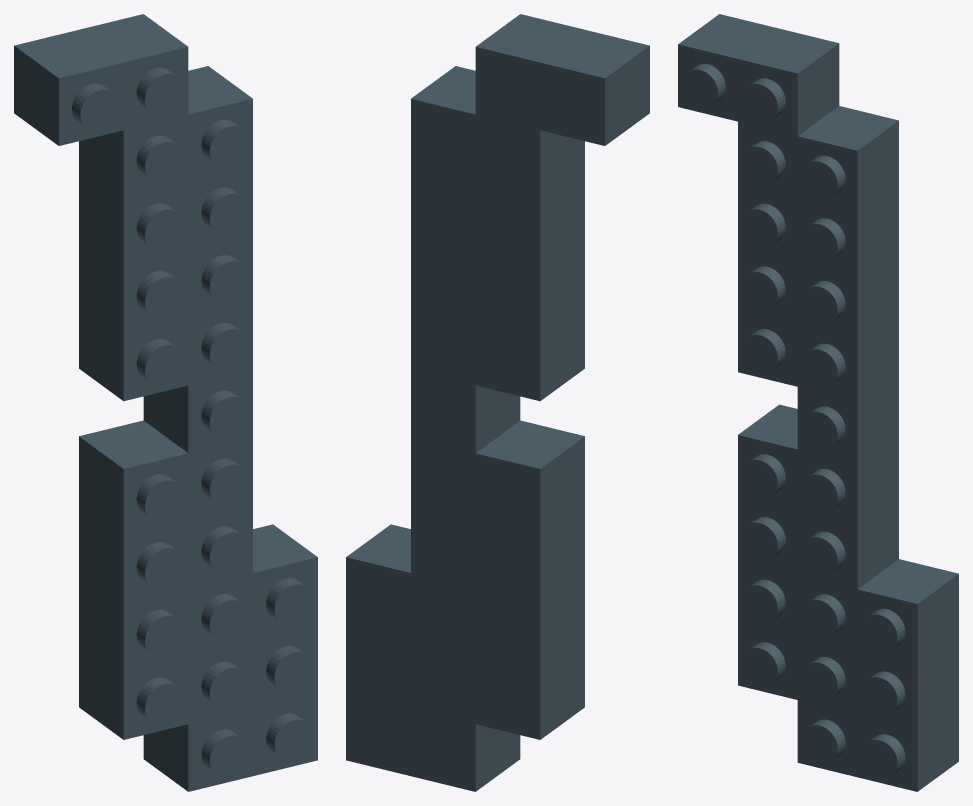
Rendered from current.glb.
3 views of the same model, side by side, from view 1: azimuth 30°, elevation 25°; view 2: azimuth 150°, elevation 25°; view 3: azimuth 330°, elevation 25° (orthographic). The views are drawn at different scales.
Parts seen in each view (by area): view 1: world; view 2: world; view 3: world.
Boxes of the visible parts, box(x1,y1,x2,y2) form: world: box(14, 14, 317, 791); world: box(346, 14, 649, 791); world: box(678, 14, 958, 791).
Bounding box in the file's own units: 32 × 88 × 11.4.
